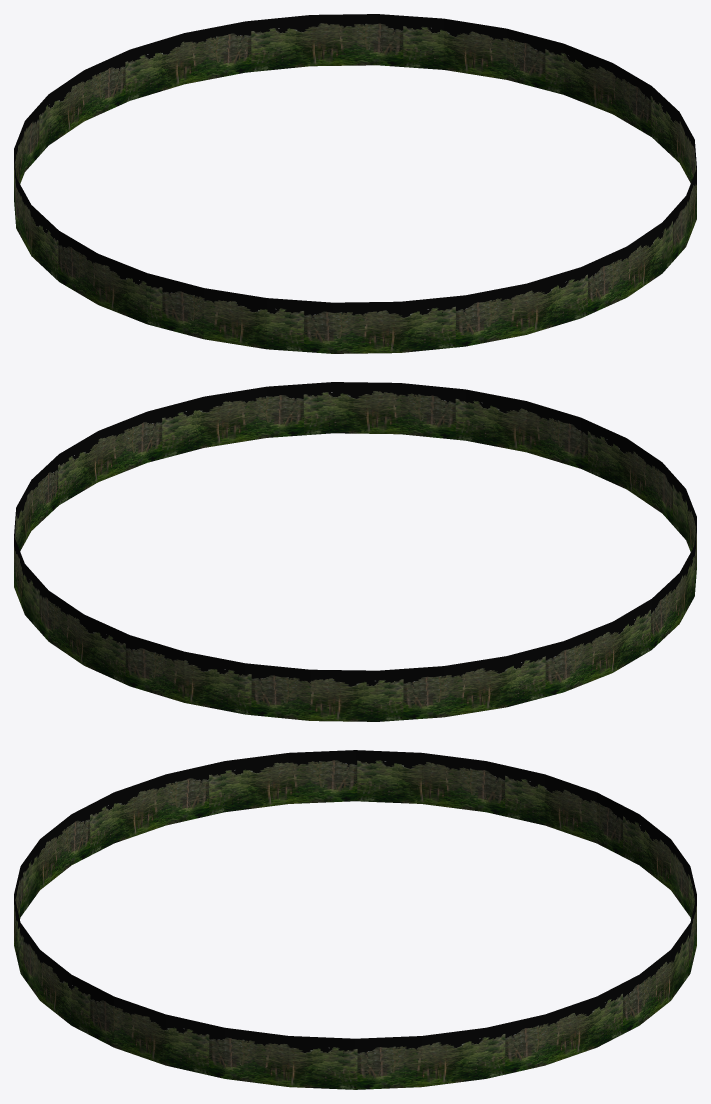
The model's file is forest_panorama.glb.
The picture shows the model from 3 angles, top to bottom: view 1: azimuth 30°, elevation 25°; view 2: azimuth 150°, elevation 25°; view 3: azimuth 270°, elevation 25°; orthographic projection.
Parts seen in each view (by area): view 1: forest_panorama; view 2: forest_panorama; view 3: forest_panorama.
Part boxes in pixels (x1=…): forest_panorama: x1=14, y1=14, x2=696, y2=353; forest_panorama: x1=14, y1=382, x2=696, y2=721; forest_panorama: x1=14, y1=750, x2=696, y2=1089.
Bounding box in the file's own units: 120 × 9.93 × 120.
1 material, 1 textured.
